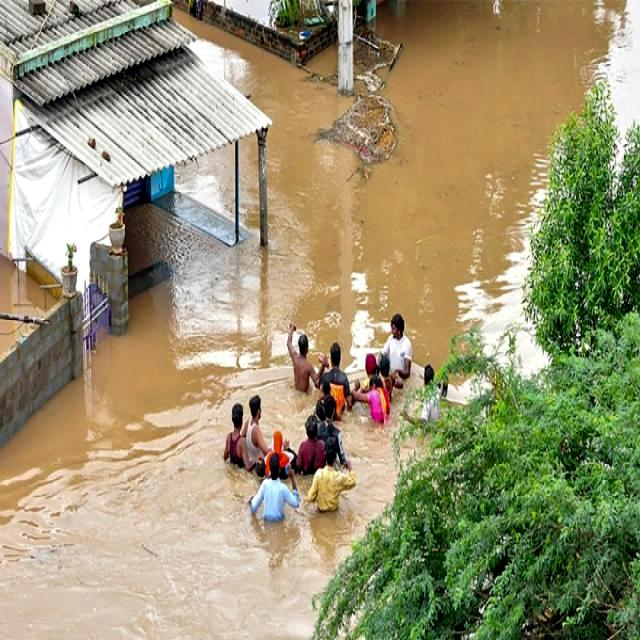civilian: (252, 452, 296, 534), (379, 307, 422, 390), (408, 358, 453, 436), (307, 384, 352, 458), (286, 322, 324, 403), (318, 438, 348, 528), (218, 402, 249, 474), (359, 375, 394, 437), (326, 341, 354, 416), (292, 416, 324, 470), (250, 394, 276, 451), (388, 360, 411, 395)
